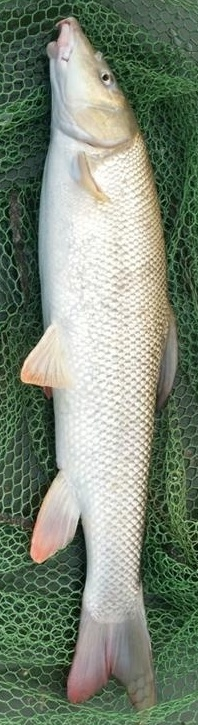Barbus barbus: (20, 20, 178, 705)
